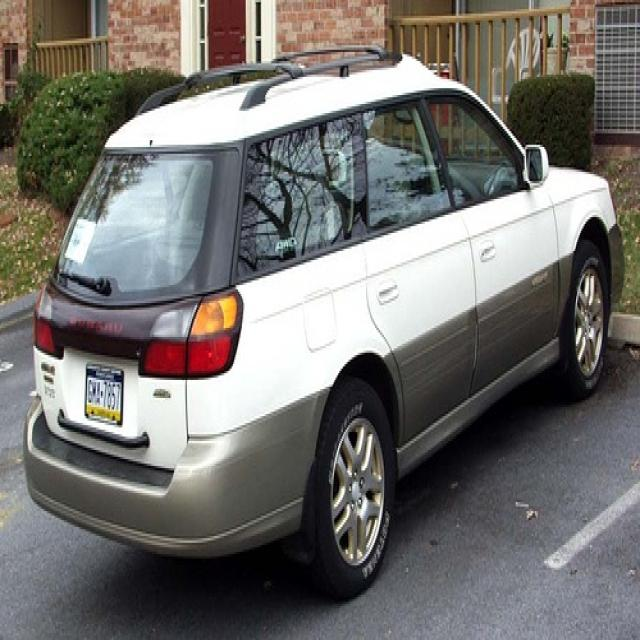car: (23, 43, 625, 599)
